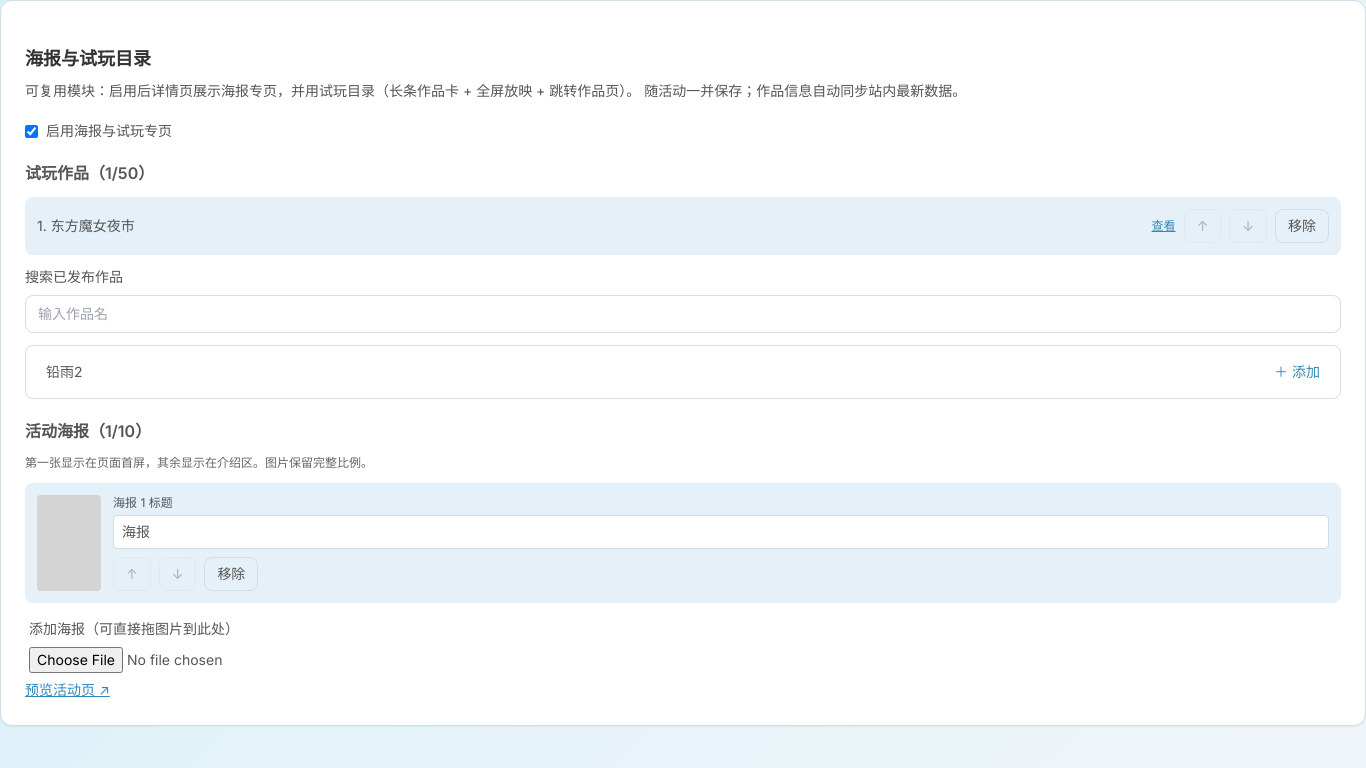
Test case: keeps poster removal in the parent form payload
Click the button with aria-label "移除海报：海报": {"x": 231, "y": 574} 204,557 -> 258,591
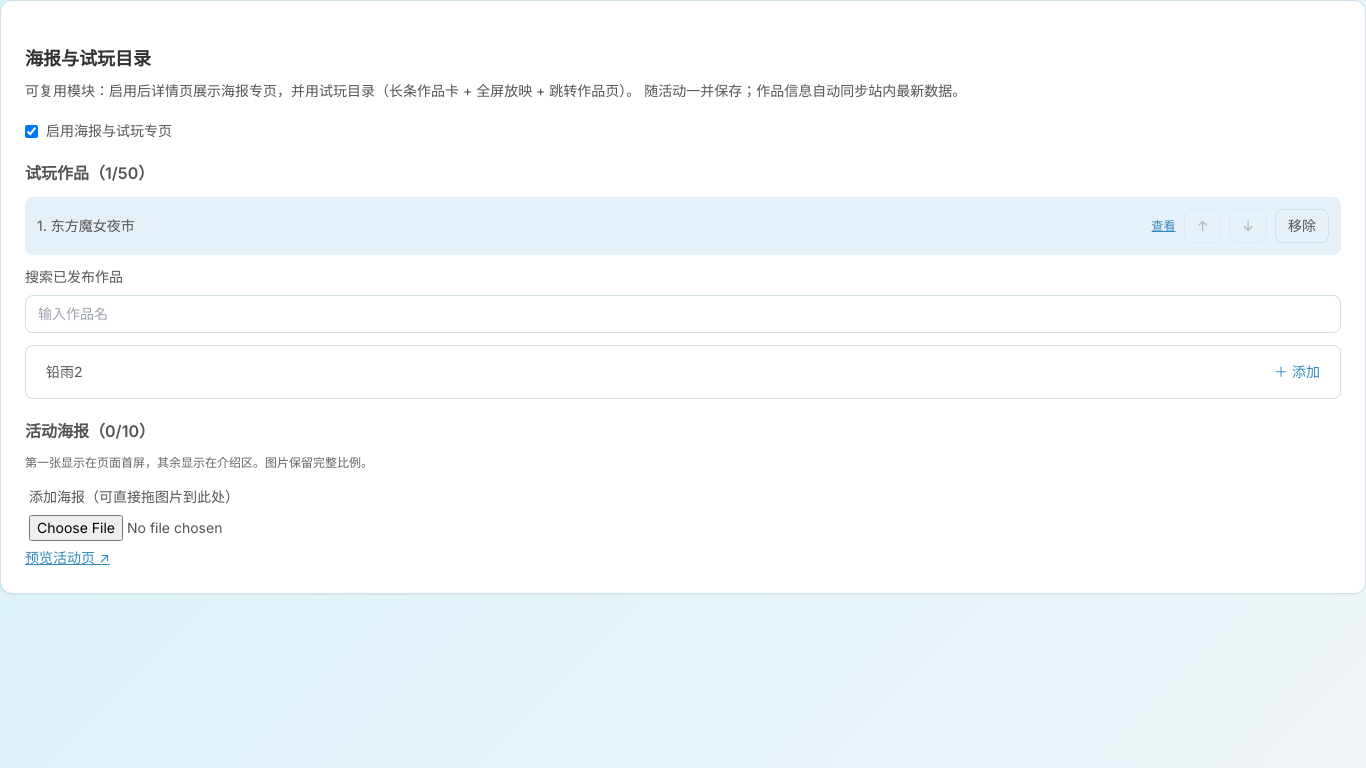
Expected: the button with aria-label "移除作品：东方魔女夜市" is shown, 1275,209 -> 1329,243
Expected: the heading "活动海报（0/10）" is shown, 25,421 -> 155,441
